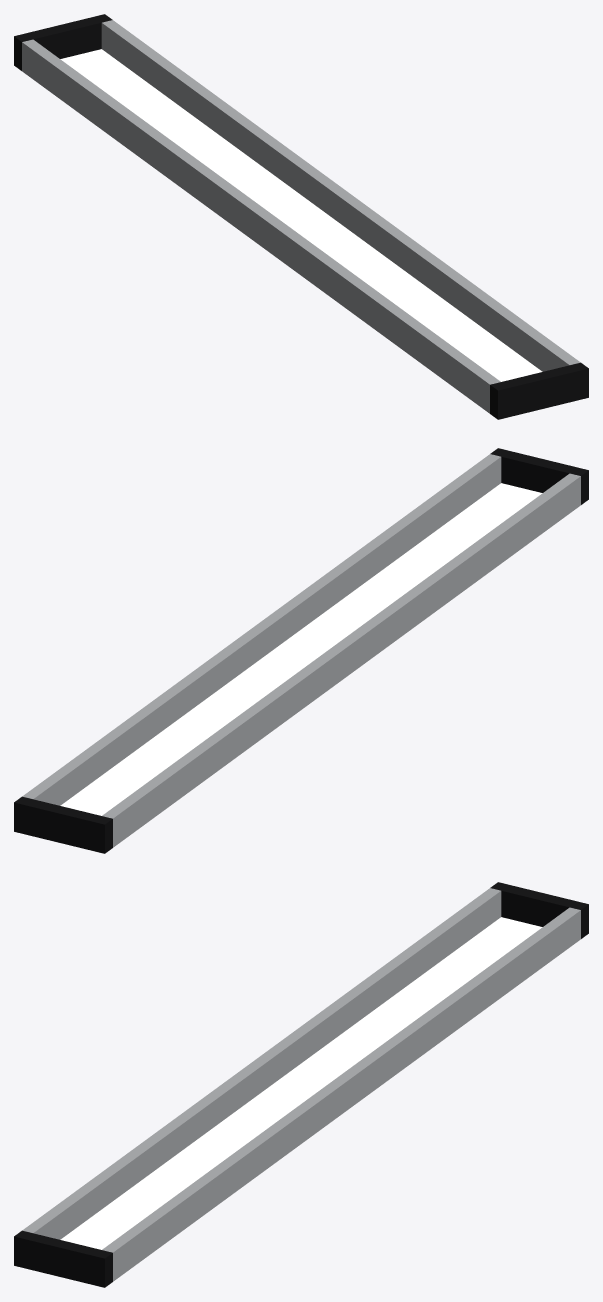
File: gteki_luminaire_linear_1200.glb
3 views of the same model, one above another, from view 1: azimuth 30°, elevation 25°; view 2: azimuth 150°, elevation 25°; view 3: azimuth 330°, elevation 25° (orthographic).
Parts seen in each view (by area): view 1: VIS_body; view 2: VIS_body; view 3: VIS_body.
Boxes of the visible parts, bbox=[...] form: VIS_body: bbox=[14, 14, 588, 419]; VIS_body: bbox=[14, 448, 588, 853]; VIS_body: bbox=[14, 882, 588, 1287].
Size of the model in its own units: 0.13 by 0.04 by 1.2.
1 material, 1 textured.
